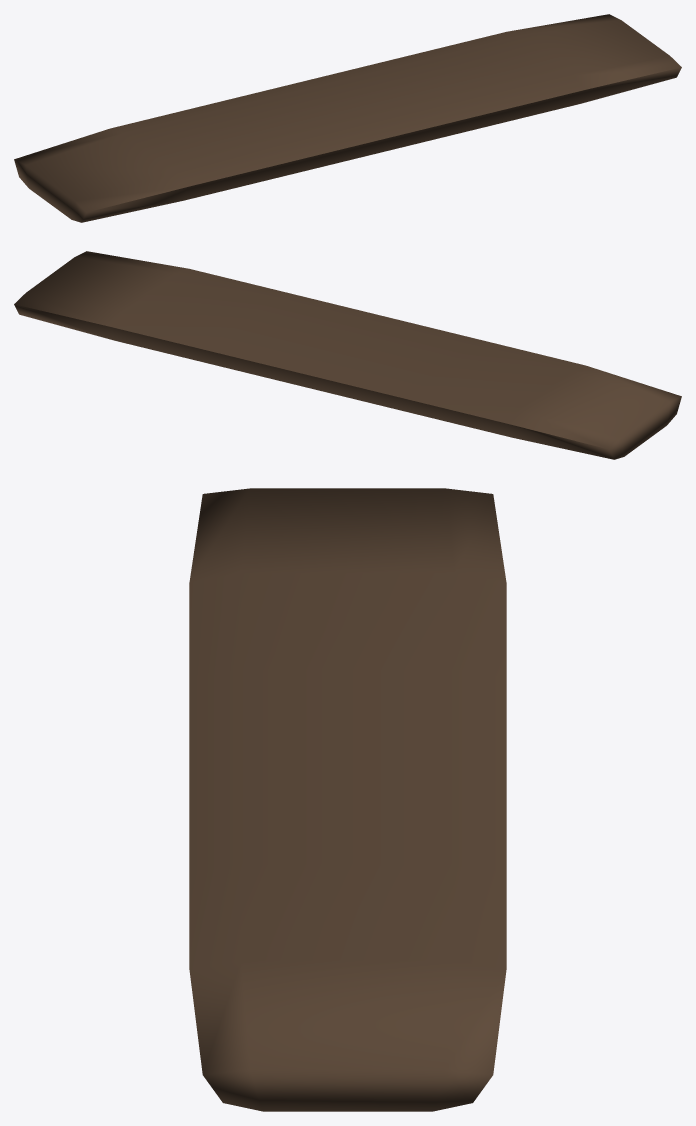
Rendered from brat_lod2.glb.
3 renders of one model, top to bottom at view 1: azimuth 30°, elevation 25°; view 2: azimuth 150°, elevation 25°; view 3: azimuth 270°, elevation 25°, orthographic. The views are drawn at different scales.
Parts seen in each view (by area): view 1: brat_lod2; view 2: brat_lod2; view 3: brat_lod2.
Boxes of the visible parts, left/top/right/bottom form: brat_lod2: left=14, top=14, right=681, bottom=222; brat_lod2: left=14, top=251, right=681, bottom=459; brat_lod2: left=189, top=488, right=506, bottom=1111.
Bounding box in the file's own units: 1 × 0.0434 × 0.2306.
